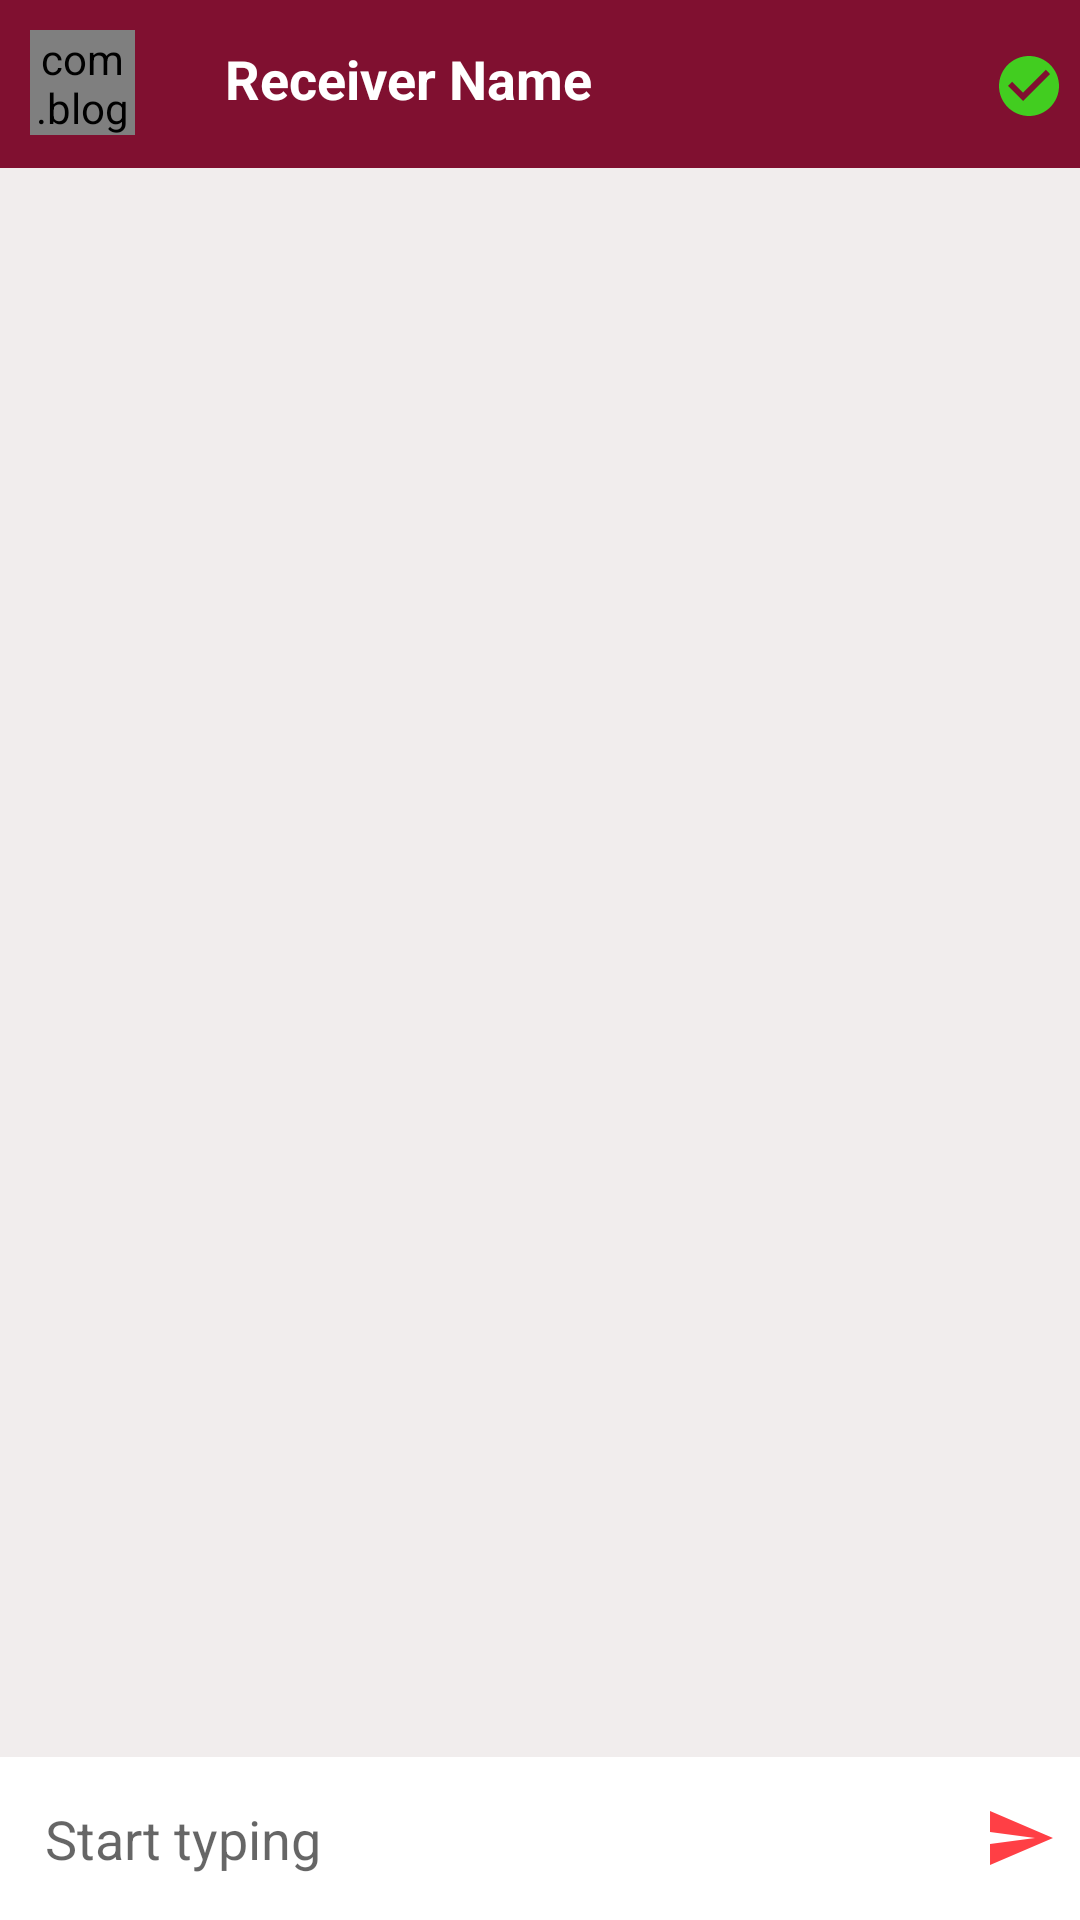

Named icons in this screenshot (1080×1920) and their bounding boxes, (x1, y1, x2, y2):
send: (990, 1811, 1053, 1865)
unblocked: (999, 56, 1059, 116)
